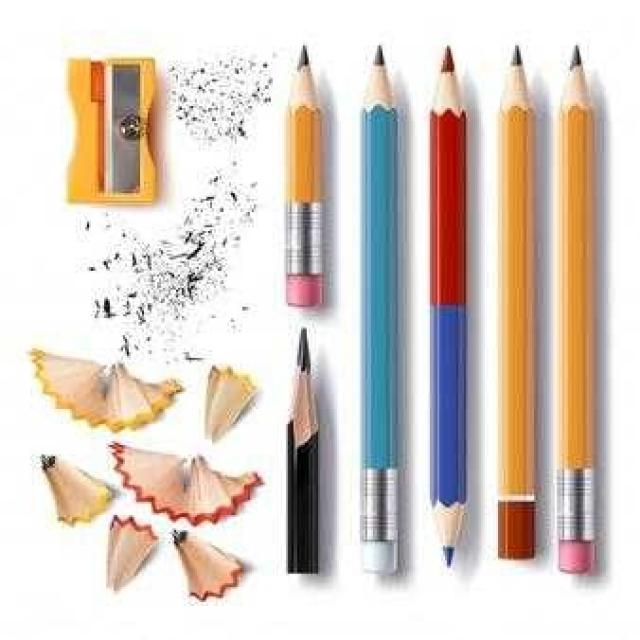pencil: (419, 31, 483, 593), (352, 34, 414, 598), (550, 32, 611, 591), (486, 25, 548, 574), (271, 38, 346, 319), (269, 312, 339, 584)
